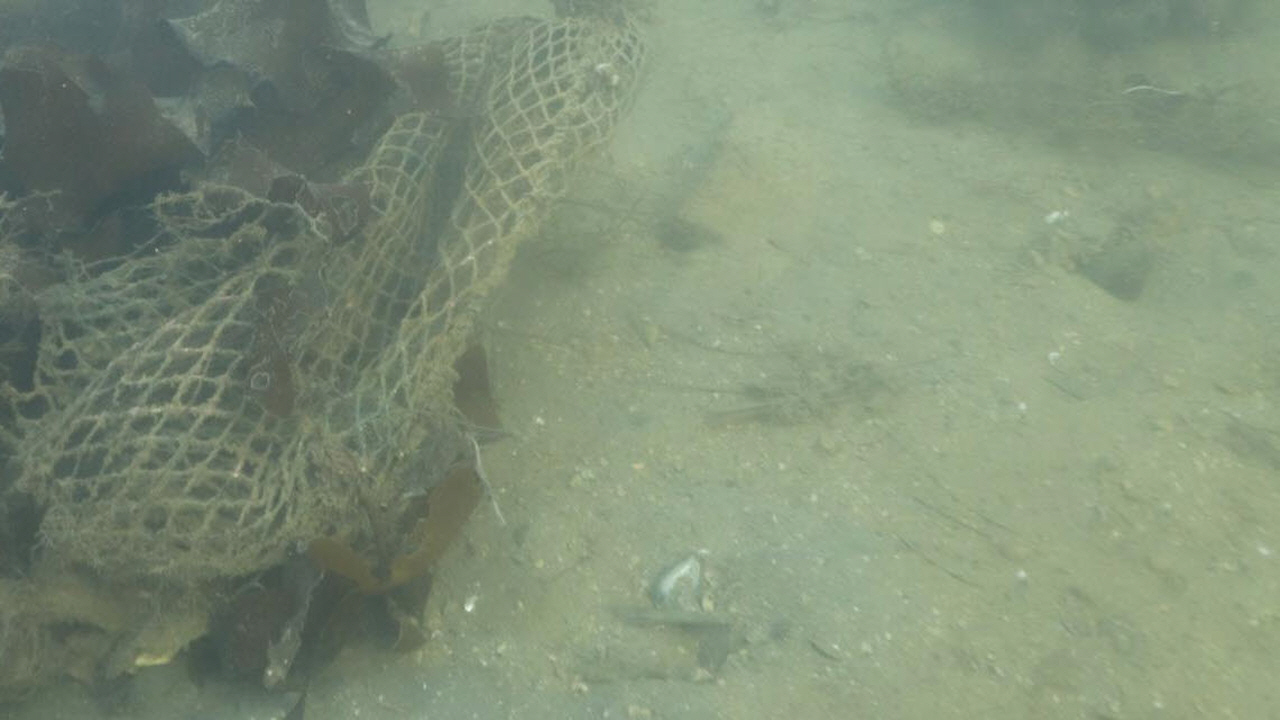fish net: (0, 12, 647, 580)
